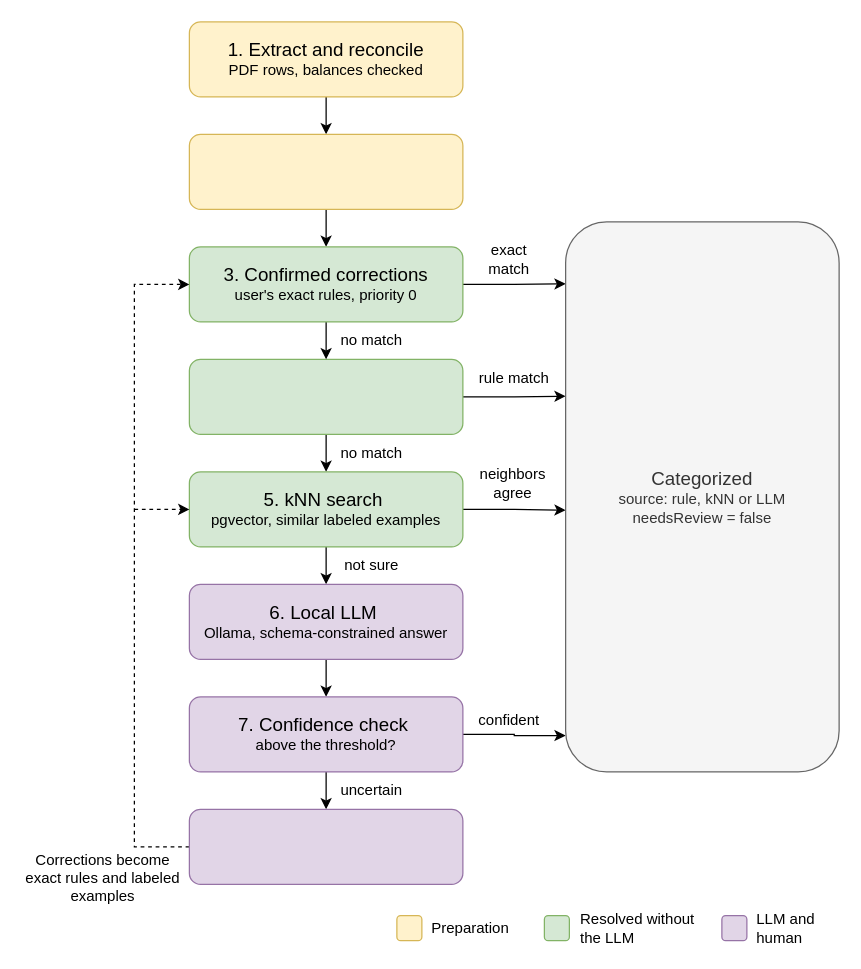
This 861x969 diagram has some shape labels left out. The centre of each missing label's shape, as x and y in pixels:
"2. Normalize clean text, payement channel" belongs at [325,171].
"4. Rules keyword, regex, MCC" belongs at [325,396].
"Review queue needsReview, the user decides" belongs at [325,846].
